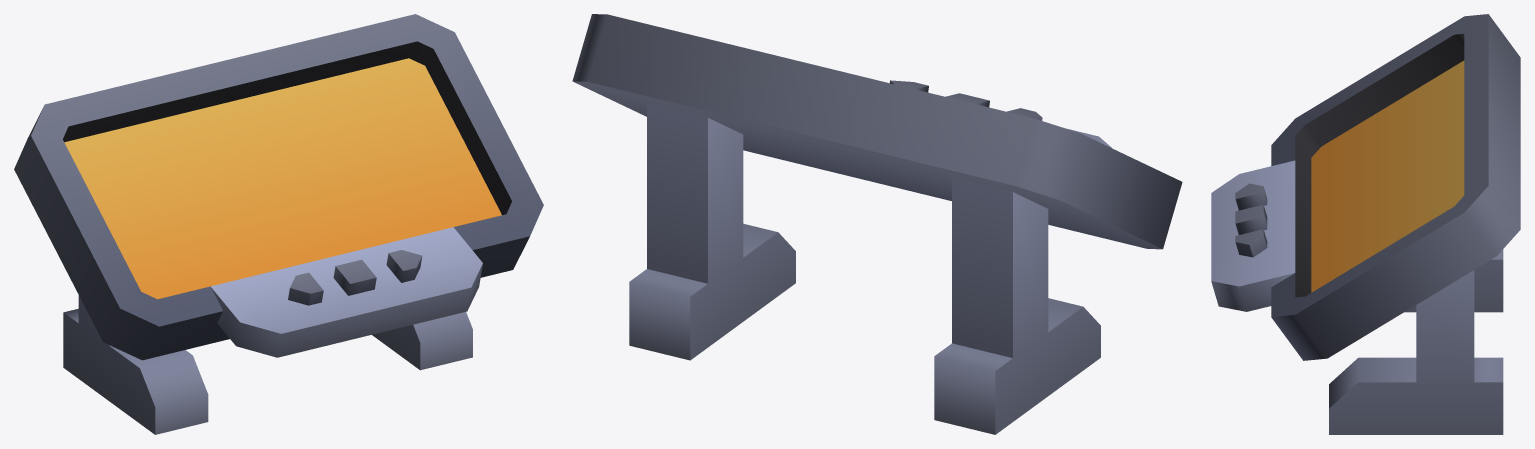
Rendered from computer-wide.glb.
The picture shows the model from 3 angles, left to right: view 1: azimuth 30°, elevation 25°; view 2: azimuth 150°, elevation 25°; view 3: azimuth 270°, elevation 25°; orthographic projection. The views are drawn at different scales.
Parts seen in each view (by area): view 1: computer-wide; view 2: computer-wide; view 3: computer-wide.
Part boxes in pixels (x1=…): computer-wide: x1=14, y1=14, x2=543, y2=434; computer-wide: x1=572, y1=14, x2=1182, y2=434; computer-wide: x1=1211, y1=14, x2=1520, y2=434.
Bounding box in the file's own units: 0.8 × 0.4968 × 0.5332.
